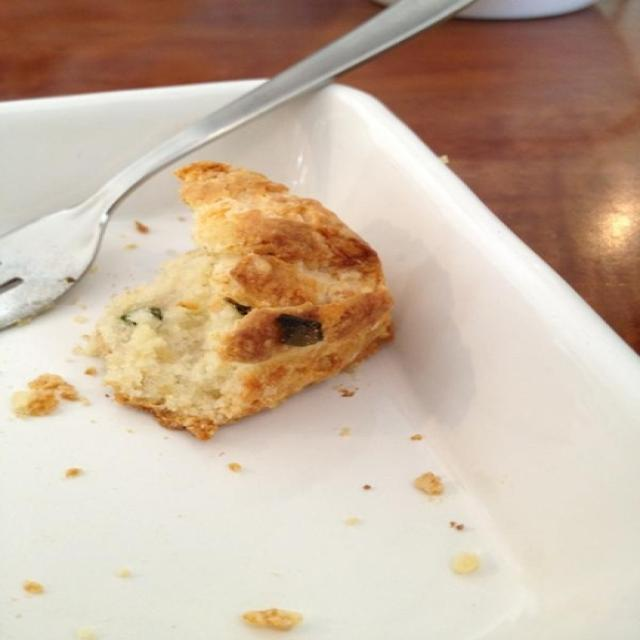面包点心: (71, 143, 423, 477)
